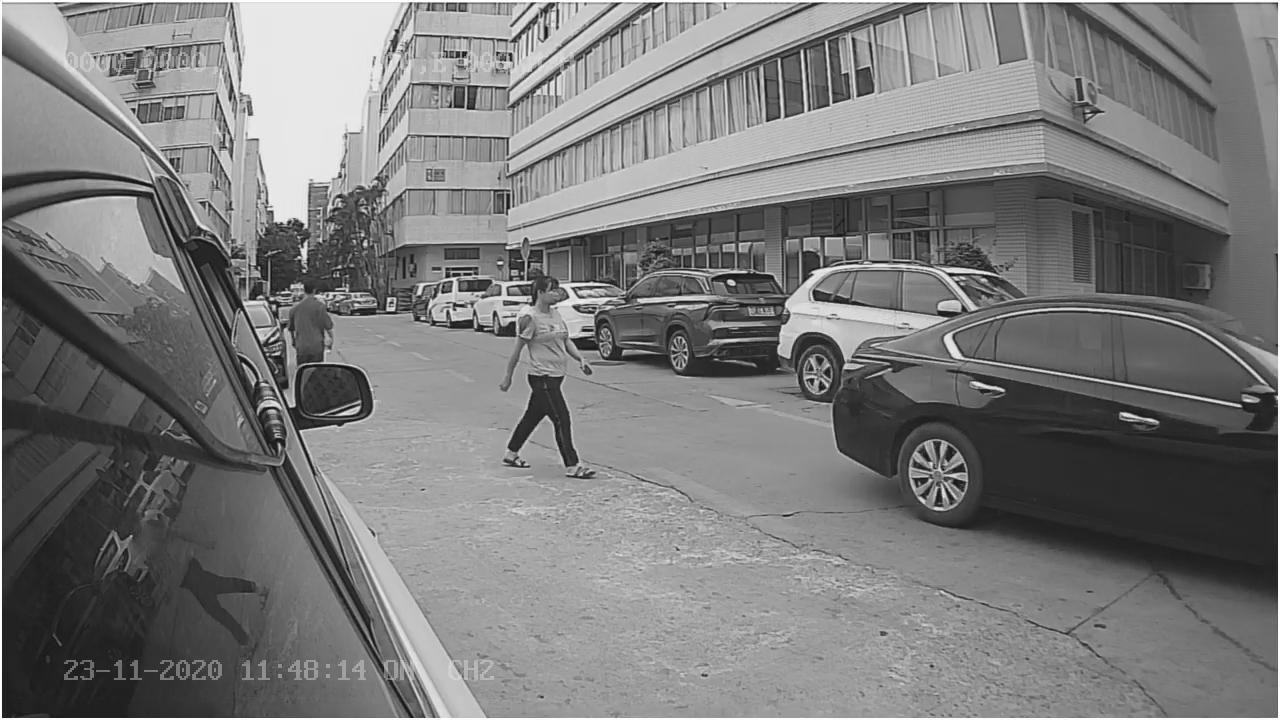person: (500, 265, 592, 480)
